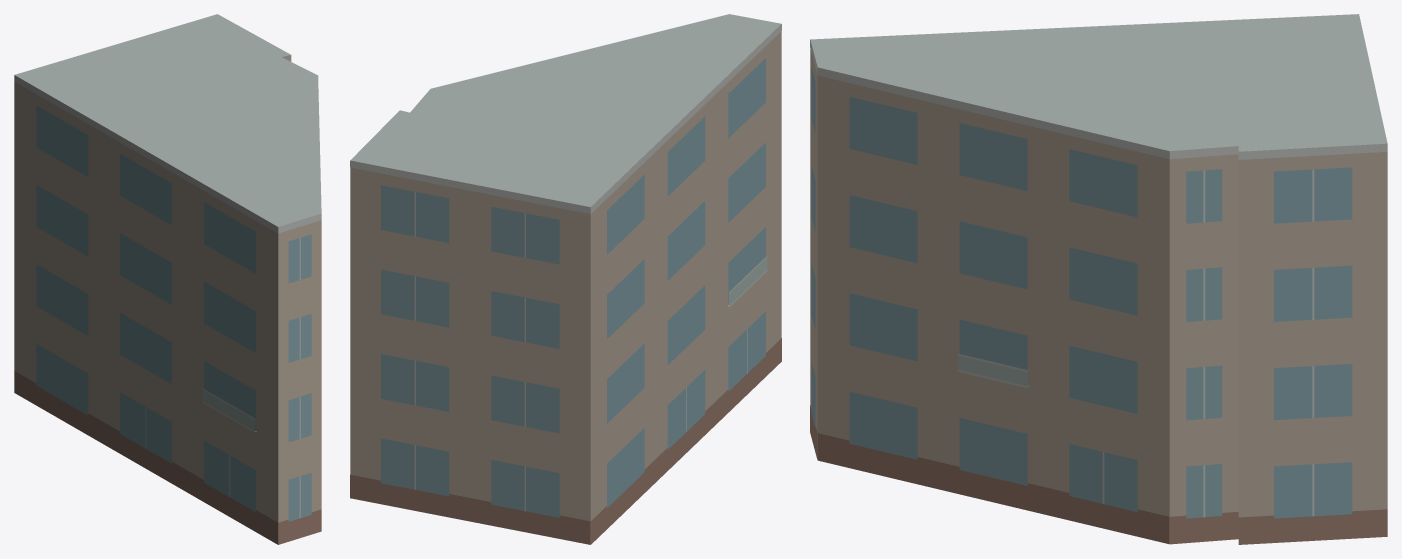
The model's file is survey-upis-32733933.glb.
The picture shows the model from 3 angles, left to right: view 1: azimuth 30°, elevation 25°; view 2: azimuth 150°, elevation 25°; view 3: azimuth 270°, elevation 25°; orthographic projection. The views are drawn at different scales.
Visible parts, largest first — view 1: survey-upis-32733933.tmp; view 2: survey-upis-32733933.tmp; view 3: survey-upis-32733933.tmp.
Part boxes in pixels (x1,y1,x2,y2): survey-upis-32733933.tmp: [14, 14, 321, 544]; survey-upis-32733933.tmp: [350, 14, 781, 544]; survey-upis-32733933.tmp: [810, 14, 1387, 544].
Size of the model in its own units: 8.88 by 11.8 by 15.72.
